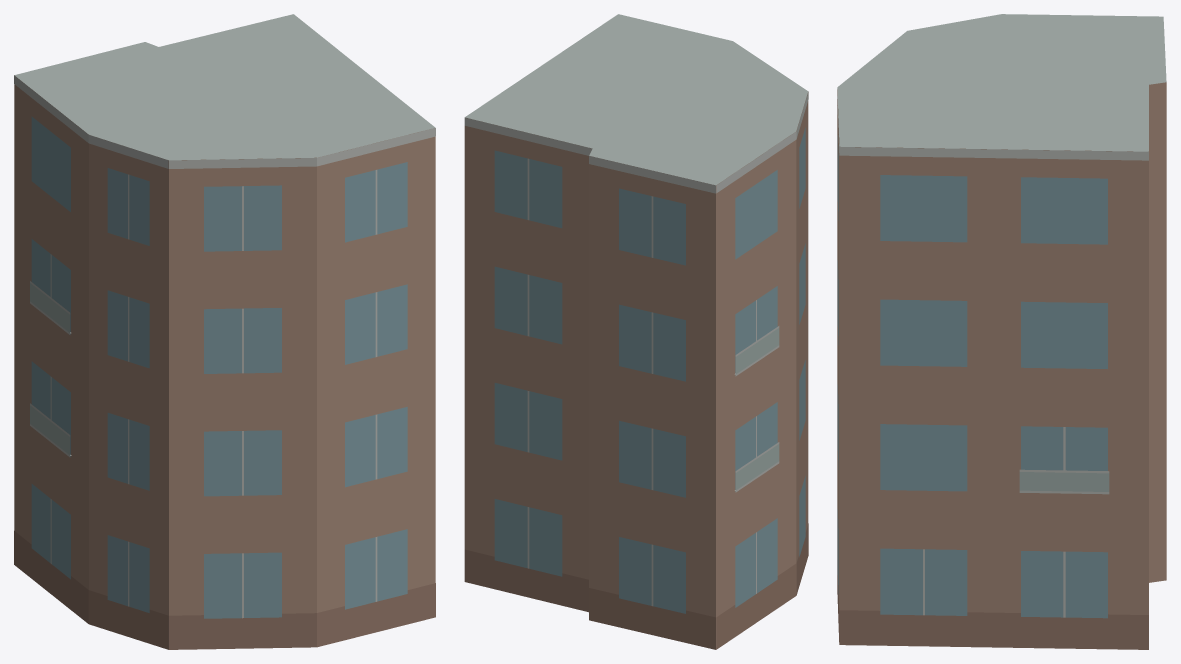
File: survey-upis-32458236.glb
3 views of the same model, side by side, from view 1: azimuth 30°, elevation 25°; view 2: azimuth 150°, elevation 25°; view 3: azimuth 270°, elevation 25° (orthographic). The views are drawn at different scales.
Parts seen in each view (by area): view 1: survey-upis-32458236.tmp; view 2: survey-upis-32458236.tmp; view 3: survey-upis-32458236.tmp.
Boxes of the visible parts, x1=… form: survey-upis-32458236.tmp: x1=14, y1=14, x2=435, y2=649; survey-upis-32458236.tmp: x1=464, y1=14, x2=808, y2=649; survey-upis-32458236.tmp: x1=837, y1=14, x2=1166, y2=649.
Bounding box in the file's own units: 8.1 × 13.65 × 8.19.
